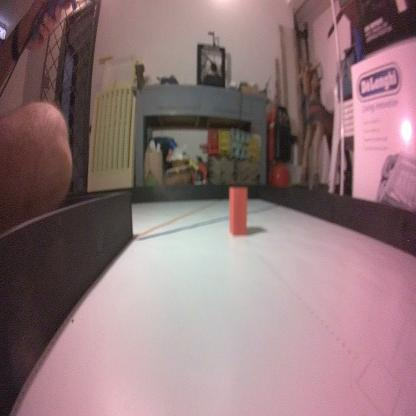red: (227, 184, 250, 237)
